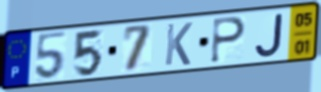5: (33, 29, 70, 82), (71, 27, 105, 78)
7: (120, 23, 155, 75)
J: (253, 12, 285, 59)
K: (163, 21, 195, 68)
P: (208, 15, 248, 65)
